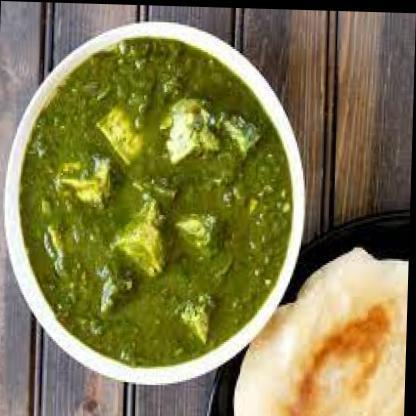palak_paneer: (16, 33, 297, 369)
